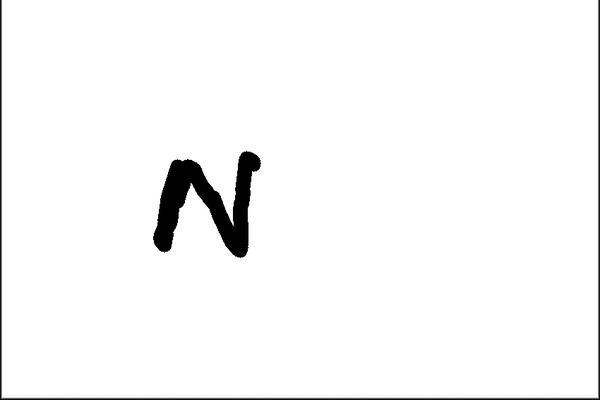N: (152, 145, 264, 262)
